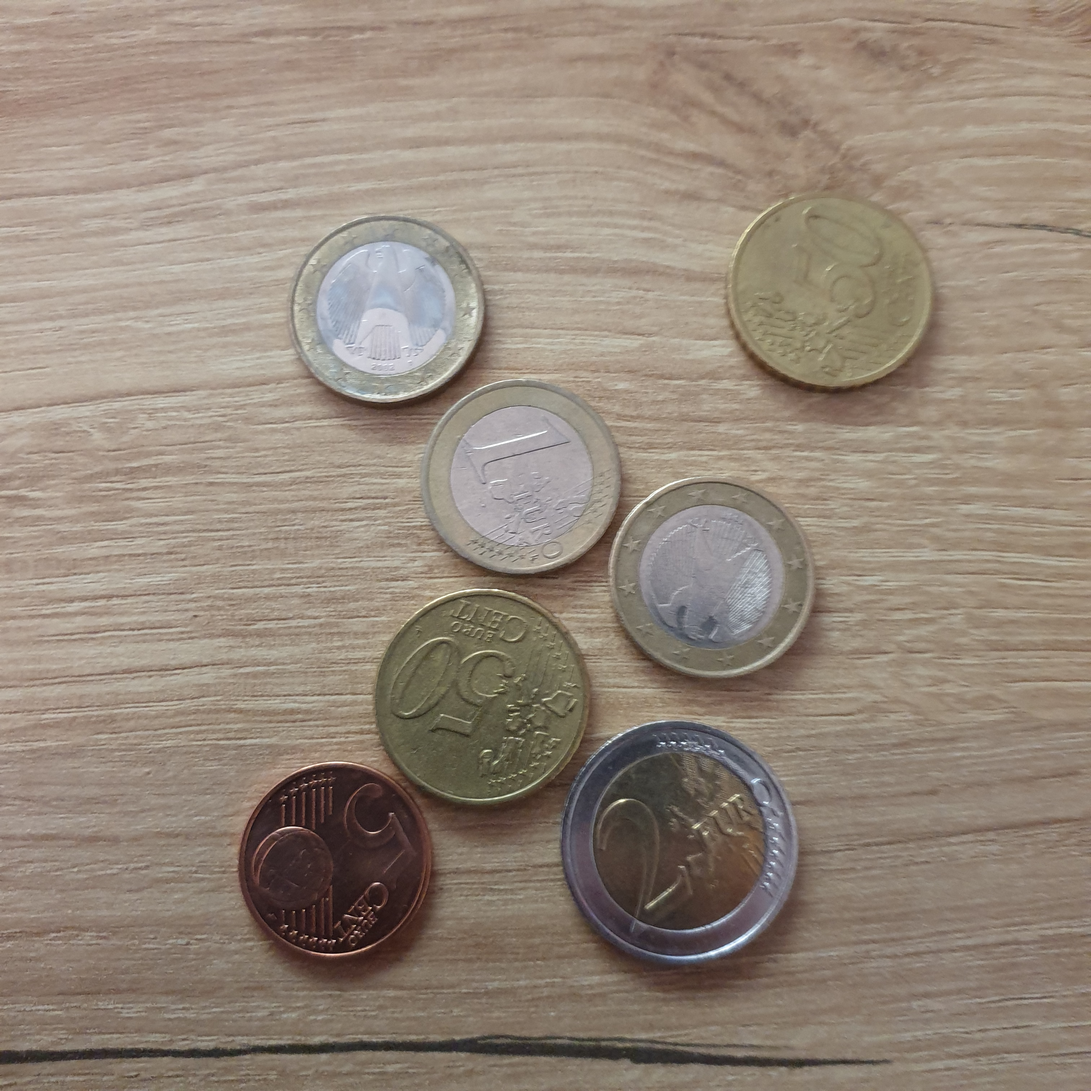1 euro: (421, 377, 616, 575), (615, 478, 810, 676), (294, 205, 488, 403)
2 euro: (543, 718, 811, 963)
5 cent: (222, 765, 438, 966)
50 cent: (370, 583, 592, 803), (717, 183, 939, 403)
